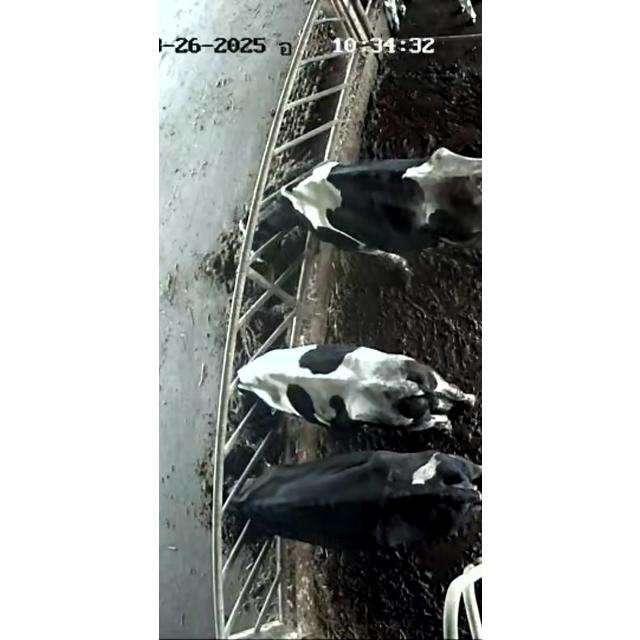eat: (199, 145, 381, 253), (166, 444, 330, 540), (186, 329, 354, 416)
